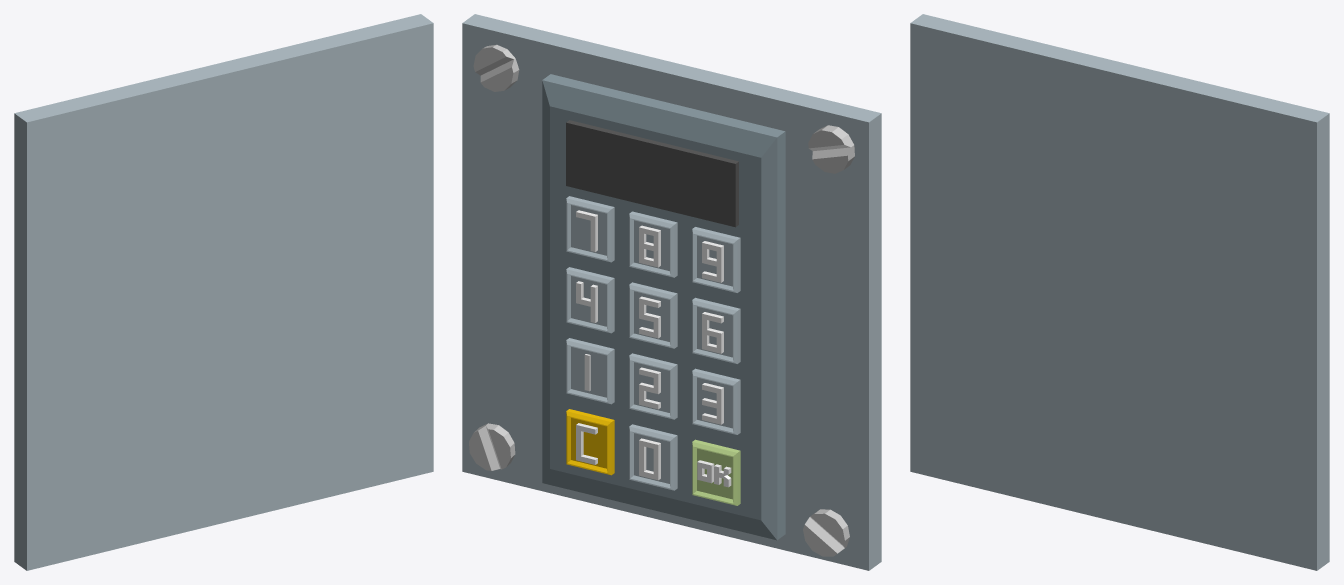
File: keypad.fbx
The picture shows the model from 3 angles, left to right: view 1: azimuth 30°, elevation 25°; view 2: azimuth 150°, elevation 25°; view 3: azimuth 330°, elevation 25°; orthographic projection.
Parts seen in each view (by area): view 1: keypad; view 2: keypad; view 3: keypad.
Boxes of the visible parts, x1=… form: keypad: x1=14, y1=14, x2=433, y2=570; keypad: x1=462, y1=14, x2=881, y2=570; keypad: x1=910, y1=14, x2=1329, y2=570.
Bounding box in the file's own units: 168 × 177 × 22.
